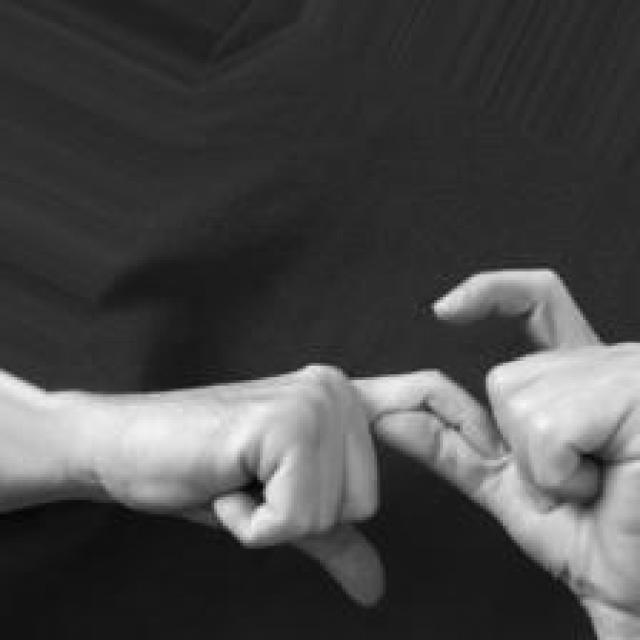S: (121, 257, 640, 640)
